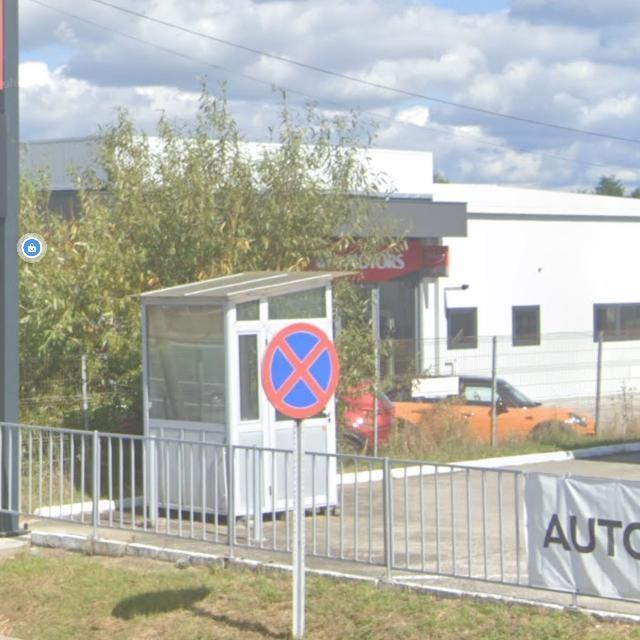forb_waiting: (260, 320, 344, 418)
